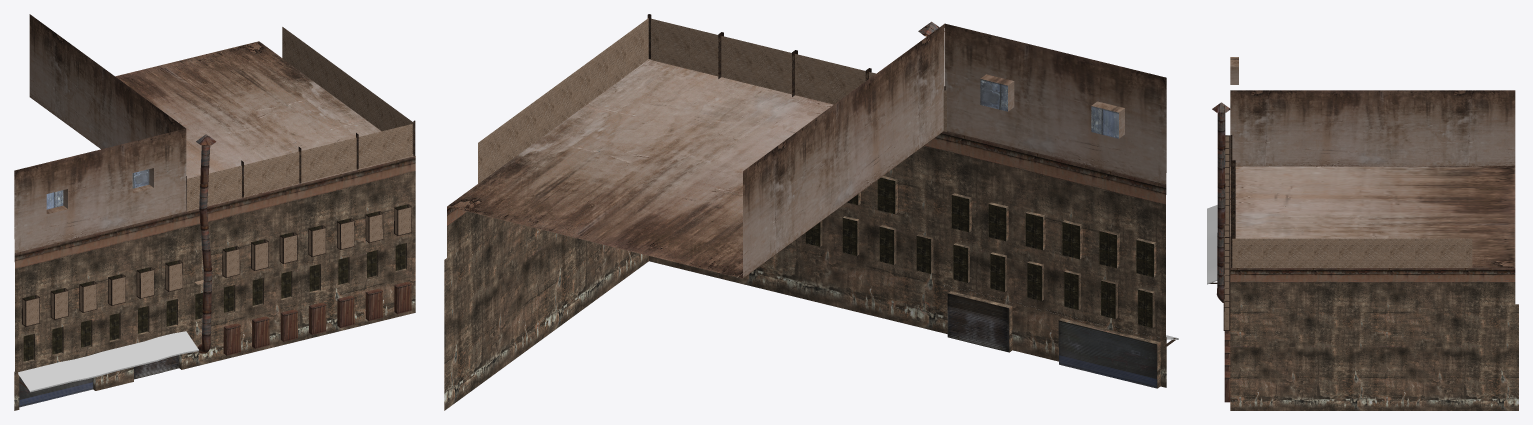
The model's file is building005.FBX.
The picture shows the model from 3 angles, left to right: view 1: azimuth 30°, elevation 25°; view 2: azimuth 150°, elevation 25°; view 3: azimuth 270°, elevation 25°; orthographic projection. The views are drawn at different scales.
Parts seen in each view (by area): view 1: Object004; view 2: Object004; view 3: Object004.
Part boxes in pixels (x1=…): Object004: x1=14, y1=14, x2=415, y2=410; Object004: x1=444, y1=14, x2=1178, y2=410; Object004: x1=1207, y1=57, x2=1518, y2=410.
Size of the model in its own units: 158 by 90.54 by 117.
